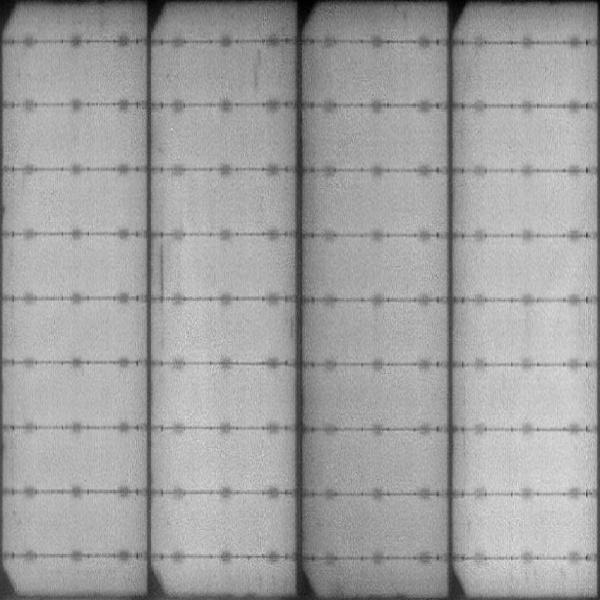scratch: (155, 231, 173, 305)
